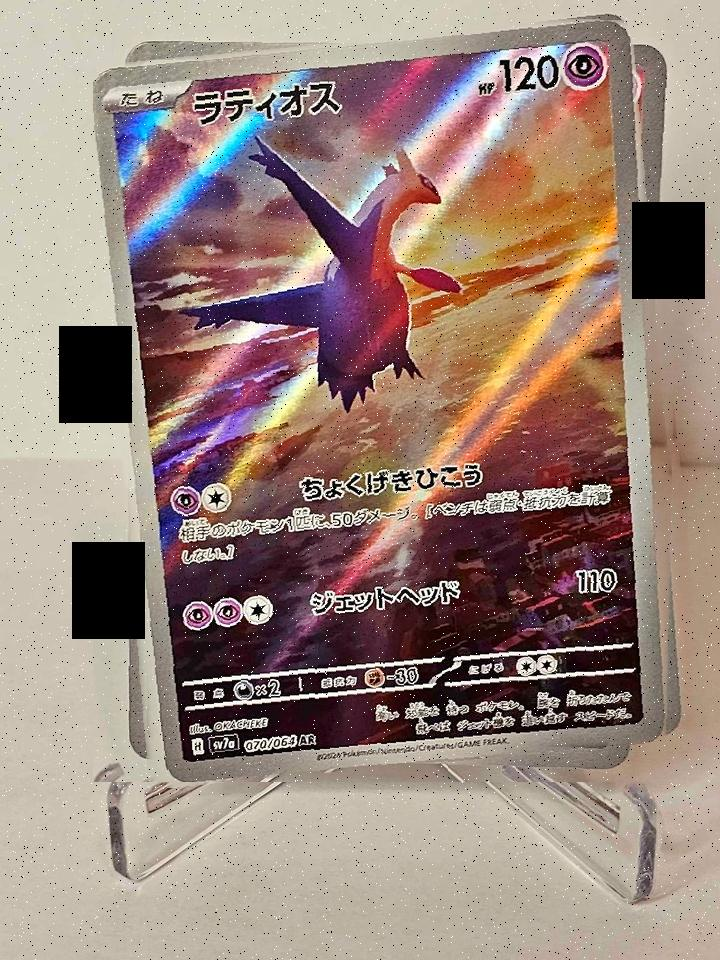card: (93, 21, 667, 782)
